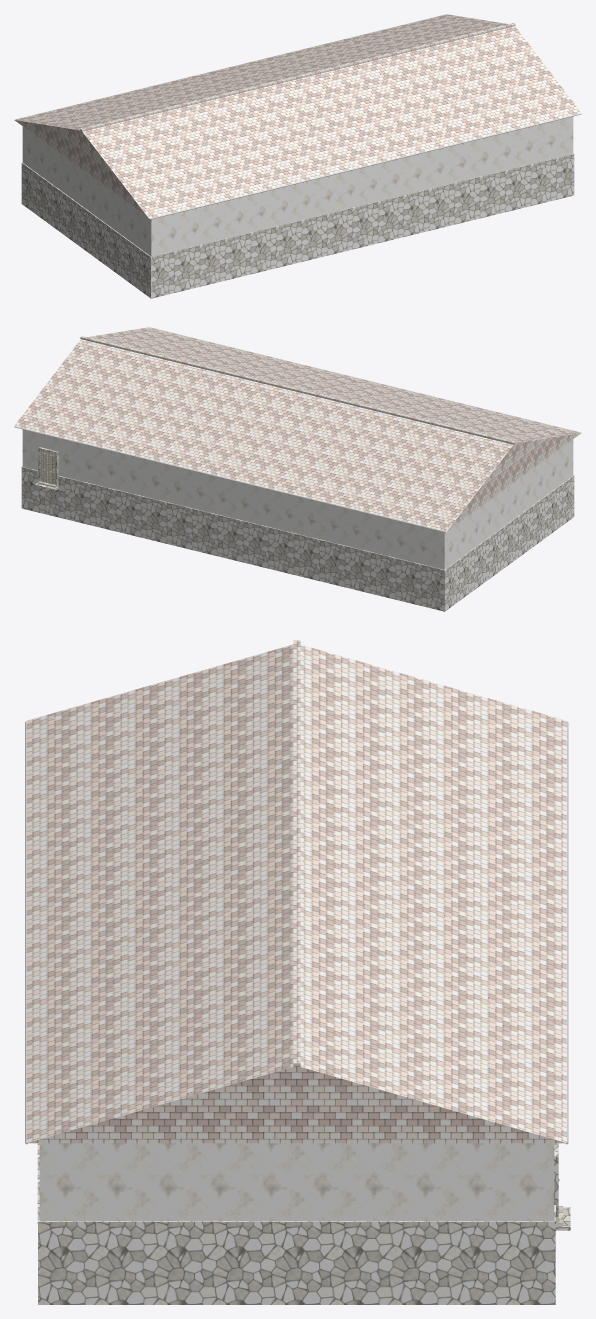
3 renders of one model, top to bottom at view 1: azimuth 30°, elevation 25°; view 2: azimuth 150°, elevation 25°; view 3: azimuth 270°, elevation 25°, orthographic. The views are drawn at different scales.
Parts seen in each view (by area): view 1: b1085384682; view 2: b1085384682; view 3: b1085384682.
Boxes of the visible parts, left/top/right/bottom form: b1085384682: left=14, top=14, right=581, bottom=298; b1085384682: left=14, top=327, right=581, bottom=611; b1085384682: left=25, top=640, right=570, bottom=1304.
Size of the model in its own units: 27.24 by 7.41 by 14.84.
Materials: 11 (11 with a texture image).
